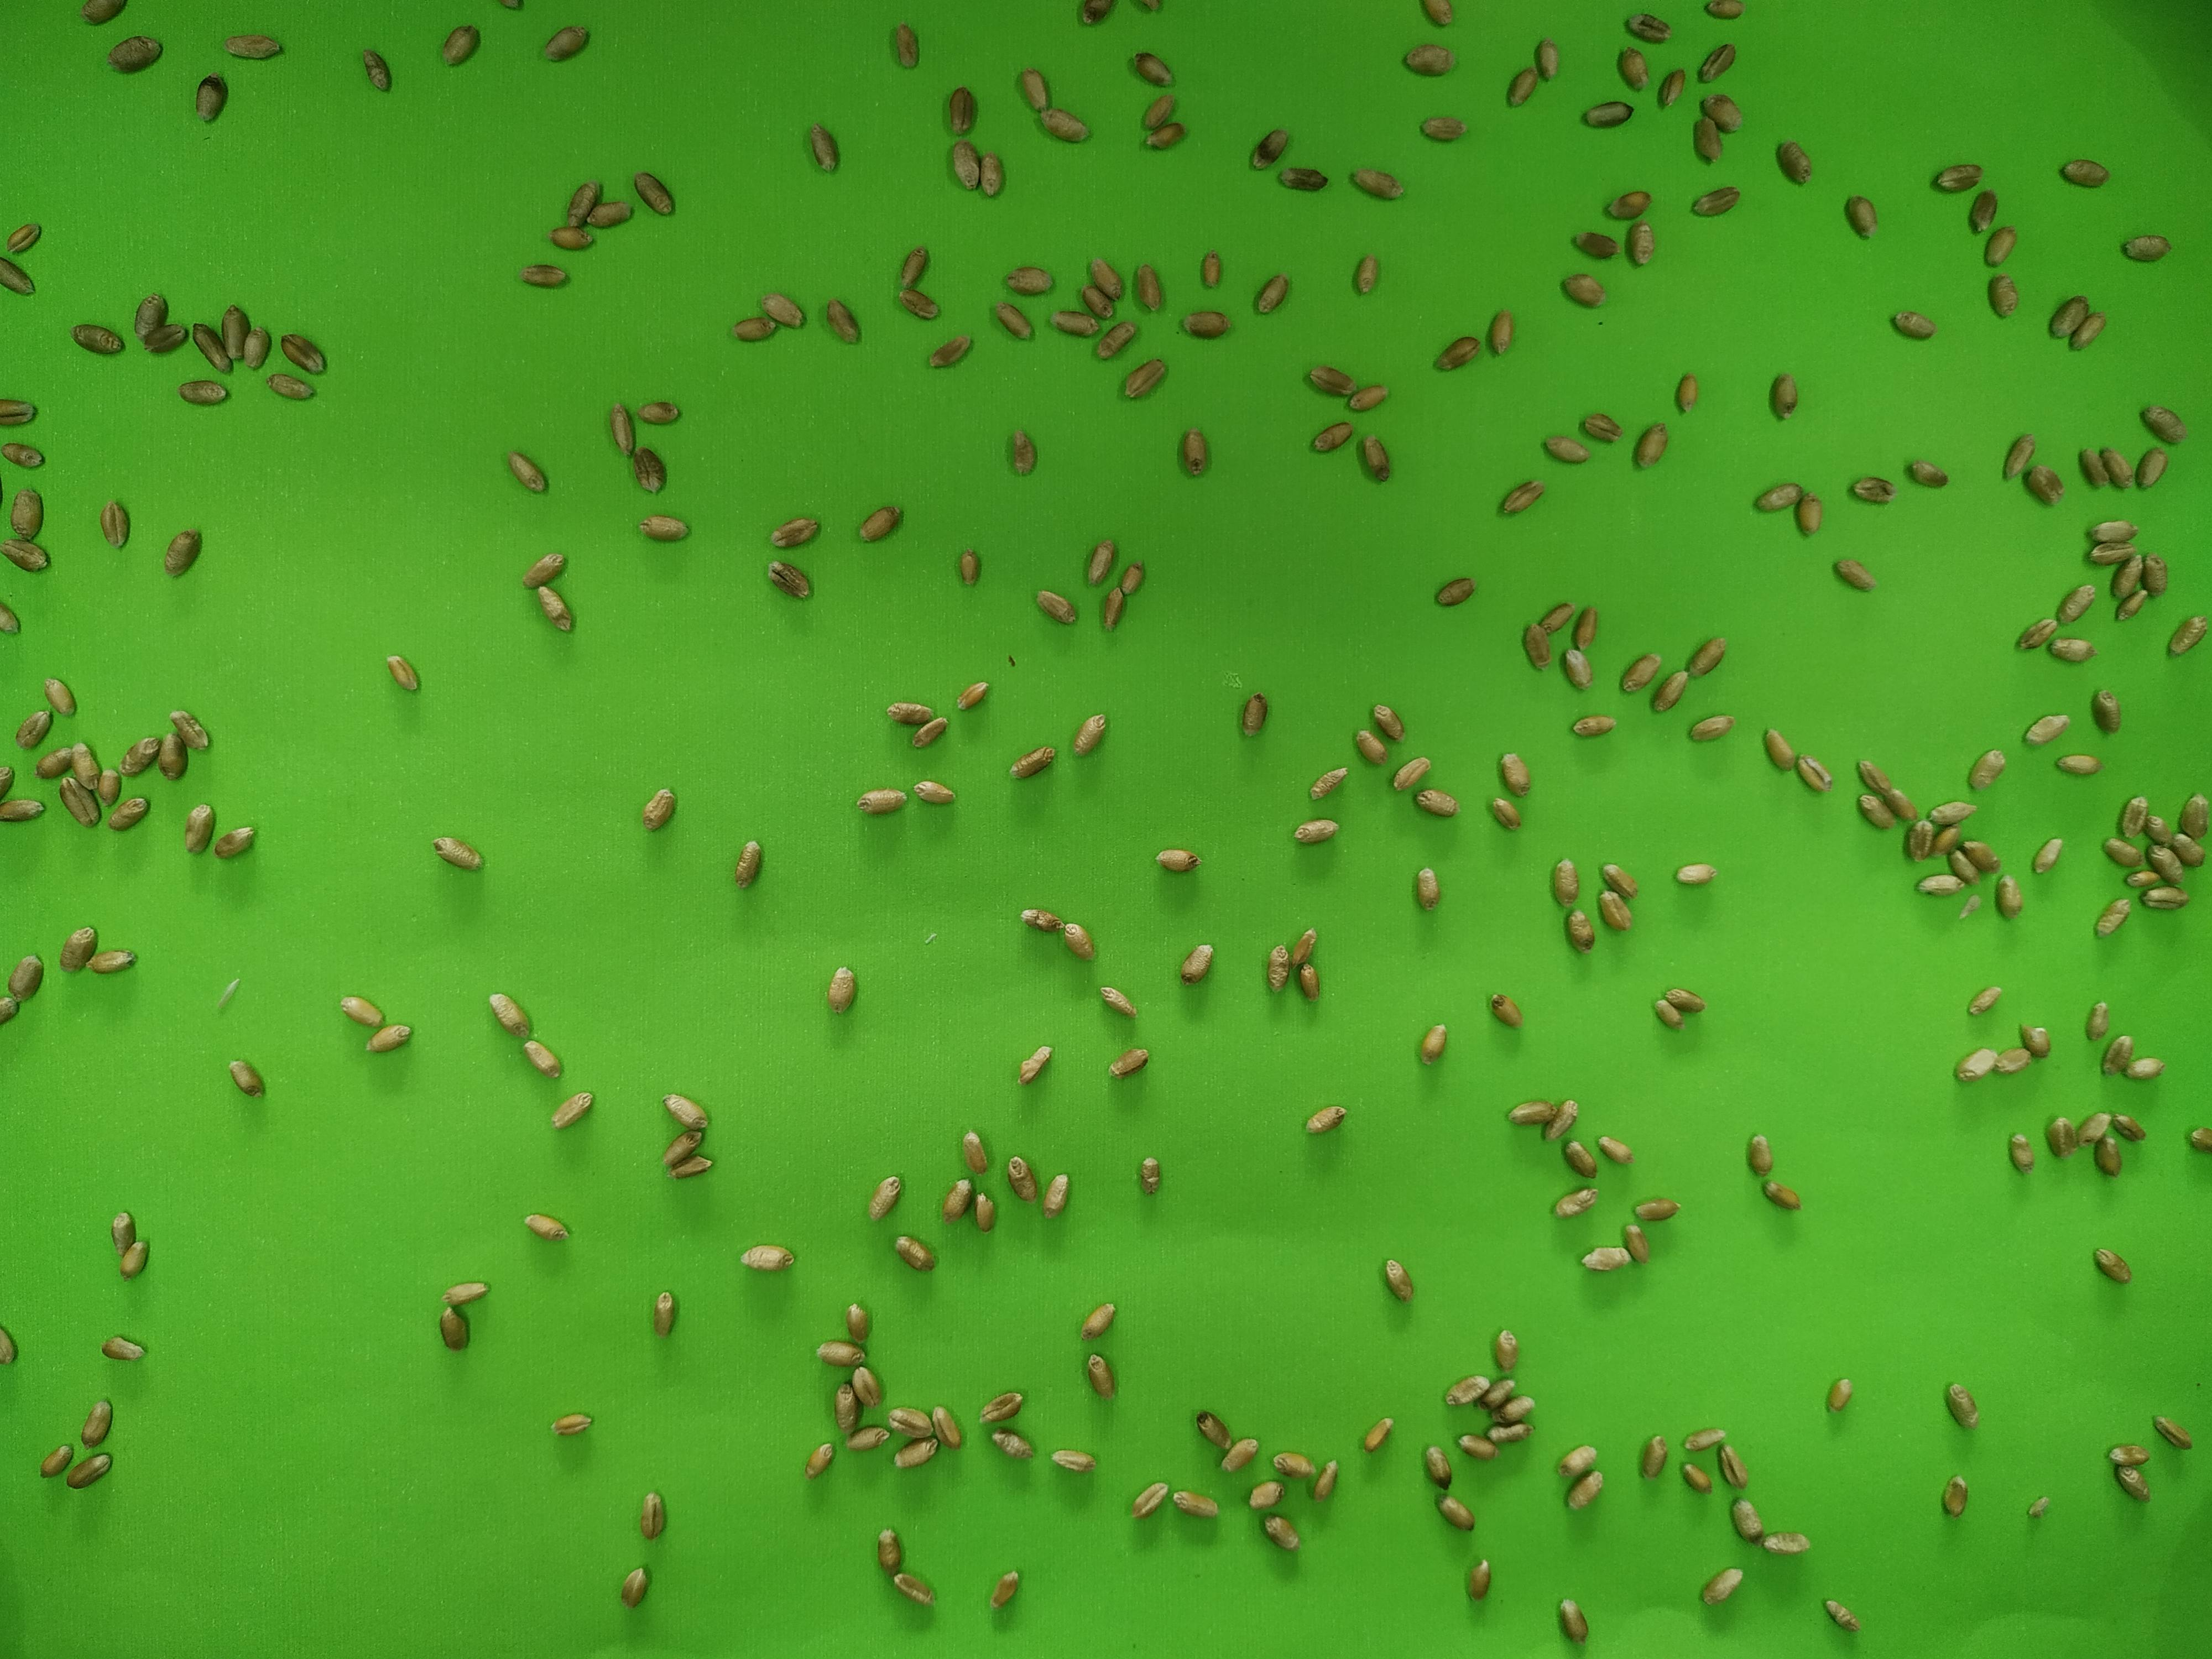bueno: (486, 985, 542, 1047), (657, 1087, 709, 1134), (1245, 120, 1296, 167), (216, 31, 291, 63), (141, 315, 193, 359), (540, 19, 590, 63), (2137, 401, 2188, 444), (280, 328, 324, 376), (768, 559, 817, 603), (1132, 258, 1167, 317), (887, 16, 921, 75), (632, 169, 678, 214), (108, 35, 164, 71), (1176, 307, 1231, 343), (631, 443, 667, 498), (873, 1520, 904, 1584), (944, 78, 977, 139), (165, 525, 204, 577), (1399, 40, 1453, 77), (1942, 1378, 1979, 1432), (165, 708, 211, 751), (1561, 1467, 1606, 1511), (82, 758, 124, 805), (927, 1406, 968, 1453), (1554, 1441, 1601, 1483), (1684, 633, 1731, 674), (857, 500, 904, 542), (1613, 45, 1655, 92), (531, 589, 580, 629), (1052, 922, 1101, 962), (192, 319, 232, 368), (7, 950, 47, 999), (152, 732, 192, 781), (986, 1424, 1035, 1464), (765, 514, 820, 549), (2177, 786, 2212, 842), (1083, 533, 1118, 589), (890, 1234, 941, 1272), (1561, 904, 1597, 957), (1554, 1595, 1590, 1647), (956, 1126, 993, 1178), (1965, 748, 2008, 791), (1303, 359, 1348, 401), (505, 448, 547, 493), (1252, 272, 1294, 317), (639, 784, 679, 831), (1561, 270, 1608, 310), (738, 1241, 792, 1276), (430, 835, 484, 870), (1484, 305, 1519, 359), (1235, 688, 1270, 742), (756, 291, 810, 326), (1792, 486, 1827, 540), (1359, 430, 1393, 484), (99, 495, 134, 549), (61, 922, 99, 971), (1689, 181, 1738, 220), (1669, 368, 1705, 418), (547, 1091, 597, 1127), (1540, 430, 1590, 467), (2078, 443, 2114, 493), (1728, 1495, 1764, 1546), (1017, 63, 1054, 113), (61, 784, 103, 828), (1278, 160, 1331, 195), (634, 511, 686, 545), (617, 1561, 651, 1614), (70, 321, 122, 356), (890, 286, 942, 321), (2092, 894, 2135, 936), (1076, 279, 1118, 322), (2043, 633, 2095, 667), (824, 295, 859, 347), (1411, 784, 1463, 819), (2057, 157, 2109, 192), (131, 293, 171, 338), (1696, 92, 1742, 132), (1435, 333, 1480, 373), (1129, 49, 1174, 89), (1193, 1408, 1233, 1453), (1630, 423, 1670, 469), (1305, 762, 1350, 802), (981, 1387, 1026, 1427), (2026, 460, 2064, 507), (362, 1019, 409, 1058), (1623, 9, 1670, 47), (441, 21, 479, 68), (1993, 868, 2024, 925), (1573, 225, 1620, 263), (1214, 1434, 1261, 1473), (1036, 108, 1090, 141), (1007, 425, 1040, 479), (2090, 683, 2123, 737), (1179, 423, 1212, 477), (437, 1300, 470, 1354), (2097, 833, 2146, 870), (1038, 1171, 1075, 1220), (2137, 551, 2174, 599), (803, 120, 840, 169), (1003, 1154, 1040, 1202), (1841, 190, 1878, 239), (888, 1436, 937, 1473), (98, 1330, 146, 1366), (1637, 1431, 1672, 1481), (1014, 903, 1064, 938), (1494, 479, 1545, 514), (2, 538, 52, 573), (2019, 713, 2069, 748), (357, 45, 392, 96), (2092, 1131, 2127, 1182), (63, 1453, 113, 1488), (585, 195, 636, 230), (845, 1368, 887, 1410), (235, 326, 277, 368), (1578, 98, 1634, 129), (12, 484, 44, 540), (261, 369, 317, 401), (1559, 1136, 1601, 1178), (815, 1331, 859, 1371), (519, 1037, 563, 1077), (1698, 42, 1738, 85), (2167, 615, 2210, 655), (1083, 258, 1127, 298), (12, 709, 56, 749), (2015, 1018, 2055, 1061), (1696, 1568, 1742, 1607), (968, 1187, 1001, 1239), (333, 995, 385, 1028), (543, 218, 596, 251), (218, 300, 251, 352), (183, 802, 216, 854), (1888, 307, 1940, 340), (2113, 1459, 2149, 1506), (890, 1572, 937, 1608), (1350, 164, 1397, 200), (939, 1175, 975, 1222), (1242, 1478, 1289, 1514), (902, 709, 949, 746), (1170, 1485, 1217, 1521), (2135, 443, 2172, 490), (1106, 1044, 1153, 1080), (1433, 1493, 1480, 1530), (1310, 418, 1357, 455), (1270, 1445, 1317, 1481), (1625, 214, 1655, 272), (1310, 1452, 1339, 1509), (512, 261, 570, 291), (1379, 1258, 1414, 1307), (1562, 645, 1597, 694), (730, 842, 765, 890), (1714, 1445, 1749, 1493), (855, 782, 904, 817), (193, 71, 228, 120), (1604, 188, 1653, 223), (1658, 983, 1712, 1014), (1521, 619, 1552, 673), (829, 1380, 860, 1434), (1683, 713, 1737, 744), (869, 1169, 900, 1223), (1792, 753, 1834, 793), (1472, 1371, 1514, 1412), (120, 735, 160, 777), (1649, 673, 1689, 714), (1595, 890, 1635, 932), (381, 652, 421, 694), (1261, 1511, 1303, 1551), (1763, 723, 1796, 774), (1097, 582, 1130, 633), (1416, 112, 1467, 145), (82, 1398, 115, 1448), (1569, 708, 1620, 741), (1498, 748, 1531, 798), (1150, 843, 1200, 877), (0, 439, 51, 472), (888, 1406, 939, 1439), (2142, 840, 2186, 878), (1367, 699, 1406, 742), (1127, 1480, 1170, 1518), (110, 791, 148, 835), (226, 1054, 265, 1098), (42, 674, 78, 720), (115, 1234, 152, 1279), (2151, 1415, 2196, 1452), (2101, 1032, 2137, 1077), (1773, 139, 1810, 185), (1757, 1176, 1803, 1213), (1503, 1096, 1555, 1127), (1416, 1019, 1451, 1066), (1440, 1375, 1487, 1410), (1909, 870, 1961, 901), (1352, 721, 1386, 769), (176, 378, 228, 410), (1033, 589, 1080, 624), (523, 1209, 570, 1244), (1005, 263, 1057, 295), (2120, 230, 2172, 261), (1580, 1244, 1629, 1277), (1141, 118, 1190, 152), (2116, 789, 2149, 838), (1679, 1422, 1728, 1455), (1291, 812, 1339, 845), (1538, 1096, 1578, 1136), (1676, 1459, 1716, 1499), (2052, 298, 2094, 336), (1599, 859, 1641, 897), (606, 397, 634, 455), (1486, 793, 1524, 835), (995, 298, 1033, 340), (1123, 359, 1167, 396), (2092, 1248, 2135, 1284), (928, 333, 972, 369), (1851, 472, 1895, 509), (1531, 596, 1575, 633), (1531, 31, 1562, 82), (1047, 308, 1097, 340), (1757, 1528, 1808, 1560), (2139, 882, 2189, 913), (1550, 1187, 1601, 1218), (841, 1297, 873, 1347), (2047, 1112, 2078, 1162), (1085, 1349, 1116, 1399), (63, 739, 98, 784), (2003, 432, 2038, 477), (826, 969, 860, 1014), (1855, 795, 1900, 830), (1752, 481, 1797, 516), (549, 1406, 594, 1441), (2052, 587, 2097, 622), (1933, 160, 1979, 195), (1303, 1100, 1348, 1134), (1831, 558, 1876, 592), (1432, 572, 1477, 606), (1956, 1044, 2001, 1079), (1385, 758, 1432, 791), (669, 1150, 716, 1183), (1010, 744, 1057, 777), (1263, 939, 1291, 995), (631, 397, 686, 425), (1745, 1126, 1773, 1182), (1047, 1446, 1099, 1476), (1928, 821, 1966, 861), (1853, 756, 1892, 796), (2101, 450, 2139, 490), (1963, 981, 2003, 1019), (1486, 992, 1524, 1032), (1078, 1302, 1116, 1342), (664, 1126, 705, 1162), (1979, 225, 2020, 261), (949, 138, 981, 186), (1179, 943, 1216, 985), (1096, 981, 1137, 1018), (2054, 749, 2102, 781), (1287, 958, 1324, 1000), (1421, 1443, 1453, 1492), (1595, 1133, 1637, 1169), (1968, 186, 2000, 235), (1986, 270, 2017, 319), (909, 777, 958, 809), (728, 312, 777, 343), (1411, 863, 1442, 911), (881, 697, 930, 728), (951, 542, 982, 591), (1096, 321, 1137, 357), (1578, 408, 1622, 443), (1075, 713, 1109, 756), (639, 1488, 667, 1542), (1766, 375, 1799, 420), (1508, 64, 1541, 110), (1489, 1326, 1522, 1371), (2013, 617, 2059, 650), (1620, 1222, 1653, 1267), (897, 244, 930, 289), (1693, 117, 1723, 167), (85, 946, 136, 976), (650, 1286, 679, 1337), (1571, 605, 1602, 652), (988, 1567, 1019, 1614), (1820, 1375, 1858, 1413), (2074, 1108, 2113, 1147), (2109, 558, 2146, 598), (1902, 821, 1939, 861), (2029, 836, 2066, 877), (1458, 1429, 1498, 1466), (566, 178, 603, 218), (1822, 1596, 1862, 1633), (1012, 1047, 1054, 1082), (1552, 857, 1580, 910), (1463, 1558, 1498, 1600), (1143, 89, 1177, 131), (1620, 652, 1662, 687), (216, 826, 258, 861), (840, 1424, 888, 1453), (2005, 1127, 2034, 1176), (1491, 1392, 1534, 1425), (1132, 1155, 1165, 1199), (1362, 1412, 1395, 1455), (1939, 1473, 1970, 1518), (1345, 380, 1390, 411), (2085, 542, 2148, 565), (1925, 798, 1975, 826), (0, 394, 38, 430), (2111, 586, 2149, 622), (954, 676, 993, 713), (71, 0, 129, 24), (2168, 831, 2209, 866), (0, 256, 35, 296), (442, 1277, 489, 1307), (1350, 251, 1379, 298), (1632, 1194, 1679, 1223), (1902, 458, 1949, 488), (1651, 993, 1684, 1035), (1658, 68, 1689, 112), (1669, 861, 1721, 887), (2074, 307, 2106, 350), (979, 153, 1007, 202), (5, 220, 42, 256), (38, 1443, 75, 1480), (801, 1445, 840, 1480), (1987, 1046, 2034, 1073), (2121, 1054, 2168, 1082), (2085, 997, 2113, 1044), (1197, 246, 1224, 293), (0, 795, 44, 824), (1073, 0, 1116, 30), (1698, 0, 1750, 24), (2107, 1441, 2153, 1469), (524, 551, 564, 582), (1287, 925, 1318, 965), (1479, 1424, 1538, 1445), (1416, 0, 1456, 30), (1116, 559, 1150, 594), (1949, 845, 1975, 889), (2092, 521, 2135, 547), (2111, 1108, 2144, 1140), (2182, 1121, 2212, 1155), (110, 1211, 132, 1256), (2128, 861, 2160, 892)
